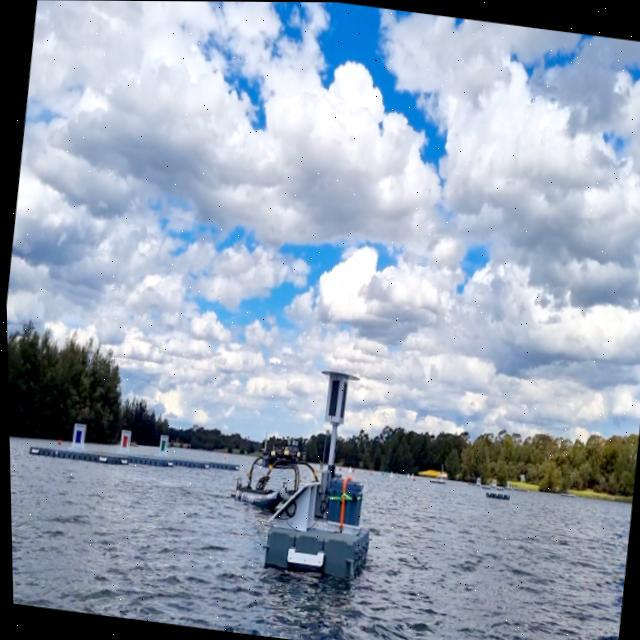led: (323, 374, 341, 420)
